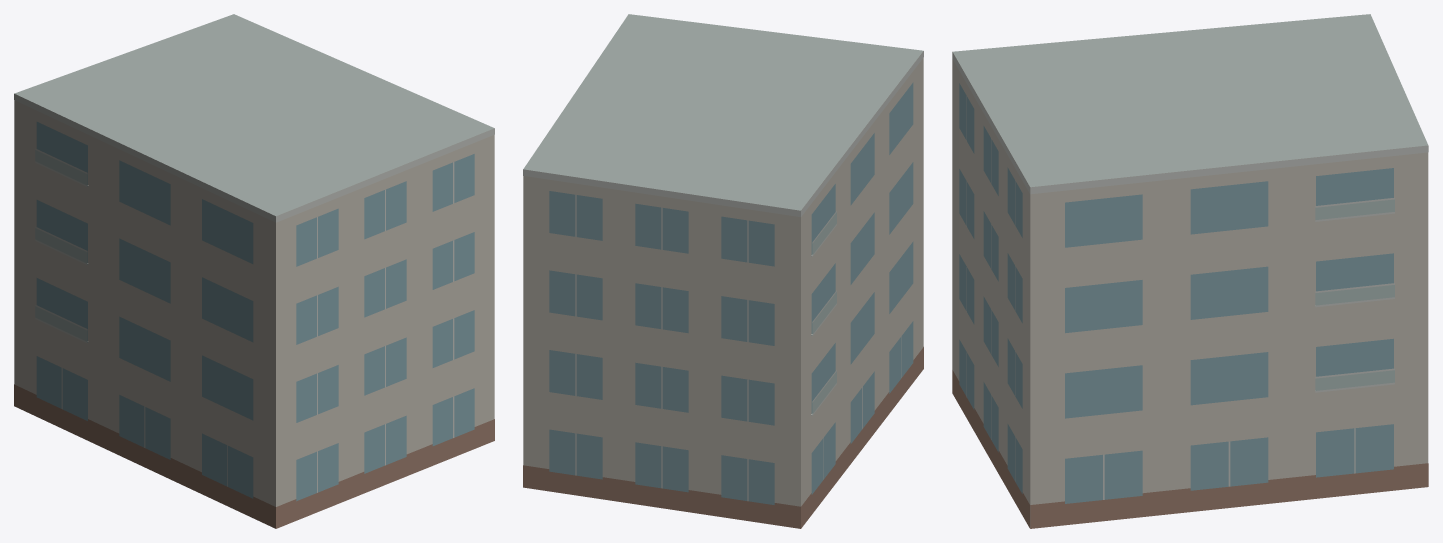
File: survey-upis-32735672.glb
3 renders of one model, left to right at view 1: azimuth 30°, elevation 25°; view 2: azimuth 150°, elevation 25°; view 3: azimuth 270°, elevation 25°, orthographic. The views are drawn at different scales.
Parts seen in each view (by area): view 1: survey-upis-32735672.tmp; view 2: survey-upis-32735672.tmp; view 3: survey-upis-32735672.tmp.
Part boxes in pixels (x1,y1,x2,y2): survey-upis-32735672.tmp: (14, 14, 494, 528); survey-upis-32735672.tmp: (523, 14, 923, 528); survey-upis-32735672.tmp: (952, 14, 1428, 528).
Bounding box in the file's own units: 12.96 × 11.9 × 15.04.
